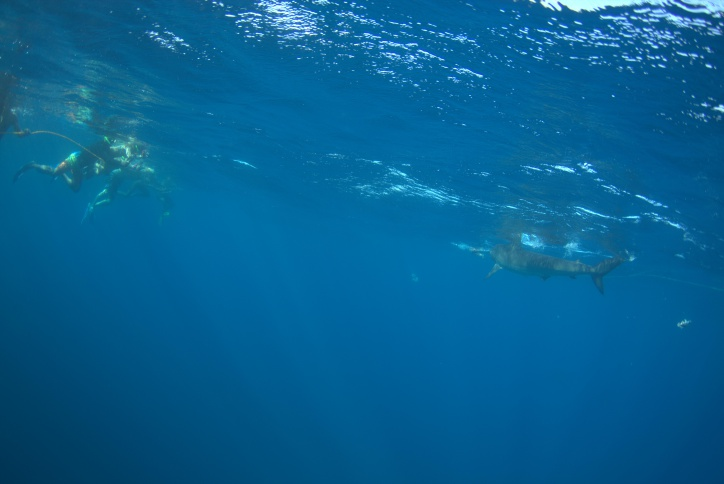Hammer: (344, 196, 572, 346), (467, 222, 648, 312)
